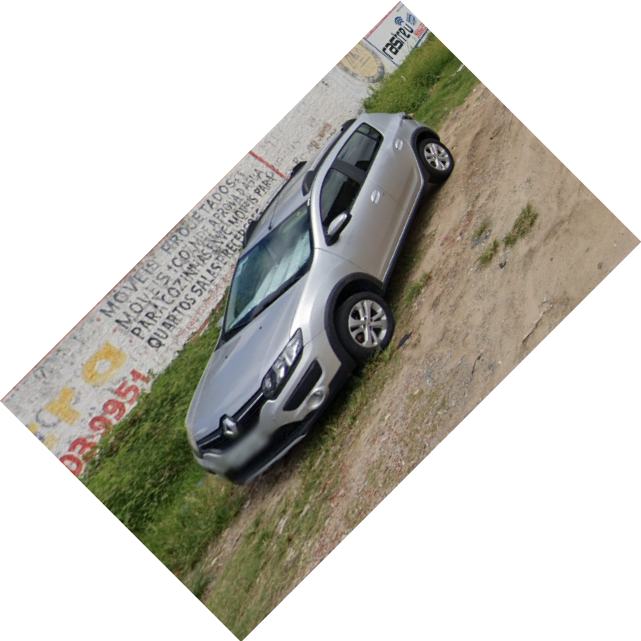car: (172, 107, 473, 490)
